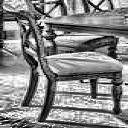chair_success: (4, 8, 126, 124)
